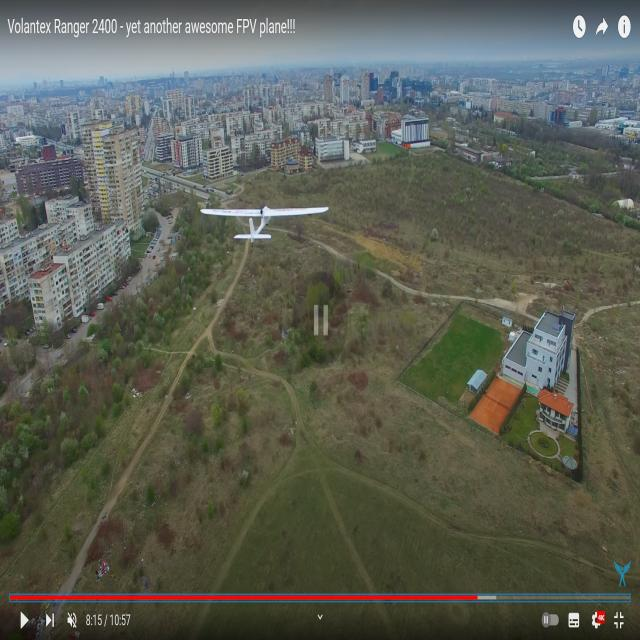iha: (227, 206, 286, 247)
